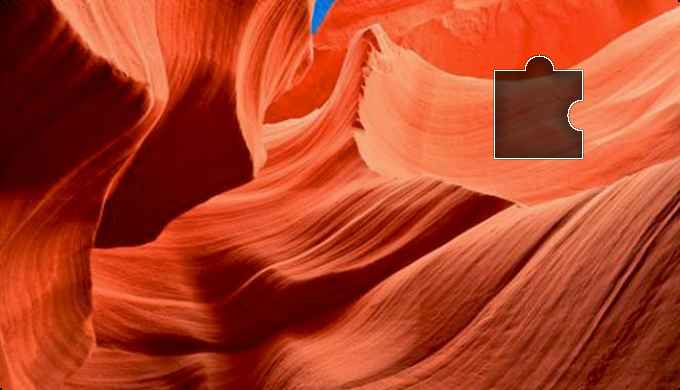gap: (495, 52, 583, 160)
